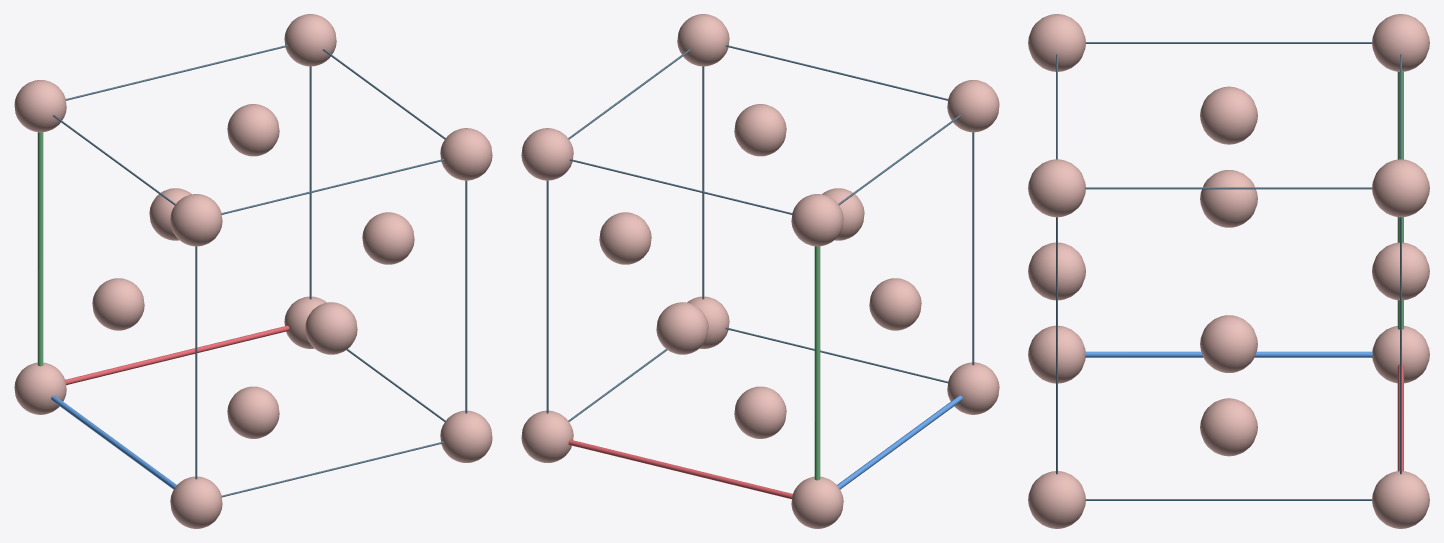
Rendered from nguyen-to-rh.glb.
3 views of the same model, side by side, from view 1: azimuth 30°, elevation 25°; view 2: azimuth 150°, elevation 25°; view 3: azimuth 270°, elevation 25° (orthographic). The views are drawn at different scales.
Visible parts, largest first — view 1: Rh · Rh · 1 (×14), Ô mạng và các trục a, b, c; view 2: Rh · Rh · 1 (×14), Ô mạng và các trục a, b, c; view 3: Rh · Rh · 1 (×14), Ô mạng và các trục a, b, c.
Part boxes in pixels (x1=…): Rh · Rh · 1 (×14): x1=14, y1=14, x2=492, y2=528; Ô mạng và các trục a, b, c: x1=37, y1=45, x2=467, y2=497; Rh · Rh · 1 (×14): x1=521, y1=14, x2=999, y2=528; Ô mạng và các trục a, b, c: x1=546, y1=45, x2=974, y2=499; Rh · Rh · 1 (×14): x1=1028, y1=14, x2=1429, y2=528; Ô mạng và các trục a, b, c: x1=1056, y1=42, x2=1403, y2=500.
Size of the model in its own units: 4.44 by 4.44 by 4.44.
